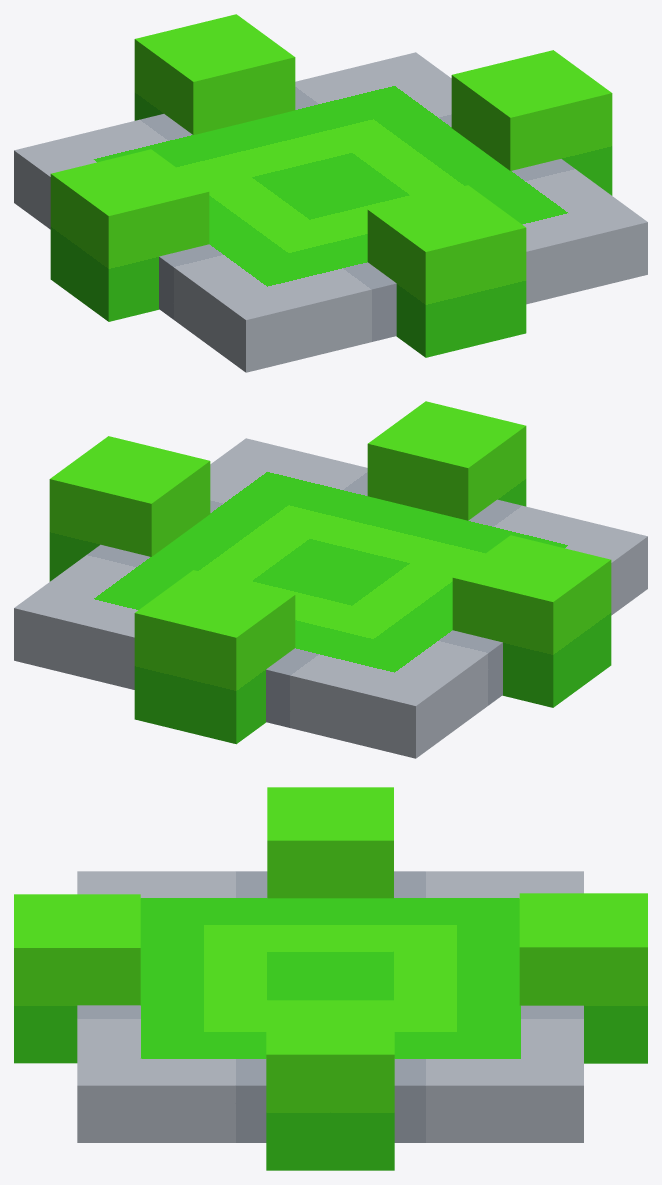
File: jump_pad.glb
3 renders of one model, top to bottom at view 1: azimuth 30°, elevation 25°; view 2: azimuth 150°, elevation 25°; view 3: azimuth 270°, elevation 25°, orthographic. The views are drawn at different scales.
Visible parts, largest first — view 1: cube; view 2: cube; view 3: cube.
Part boxes in pixels (x1=…): cube: x1=14, y1=14, x2=647, y2=372; cube: x1=14, y1=401, x2=647, y2=758; cube: x1=14, y1=787, x2=647, y2=1170.
Size of the model in its own units: 1.25 by 0.2531 by 1.25.
Materials: 1 (1 with a texture image).
